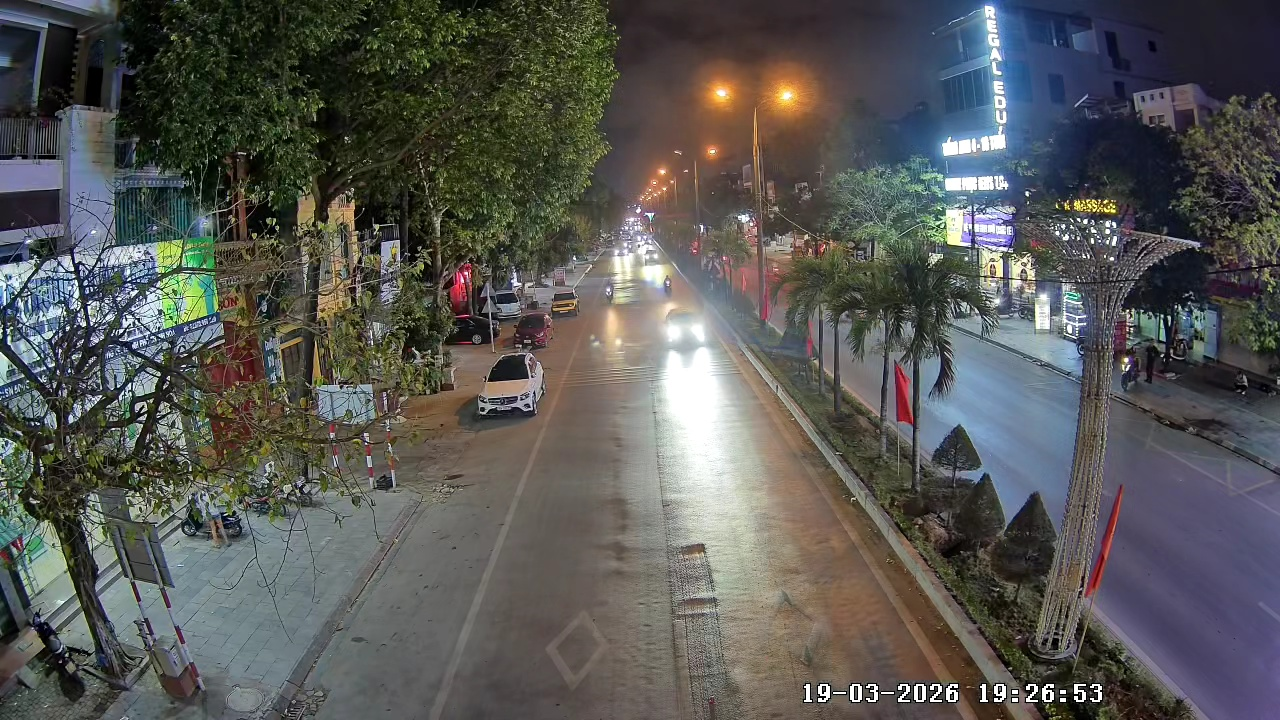car: (476, 348, 548, 417), (513, 308, 552, 349), (550, 280, 580, 317)
motorbike: (660, 275, 679, 301), (600, 278, 616, 305)
